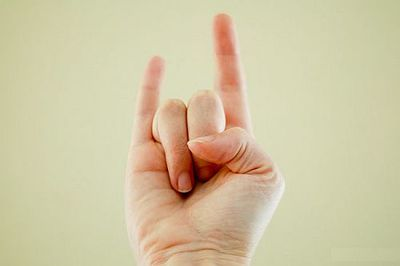closedhandfront: (120, 81, 303, 239)
mindinho: (117, 43, 176, 133)
